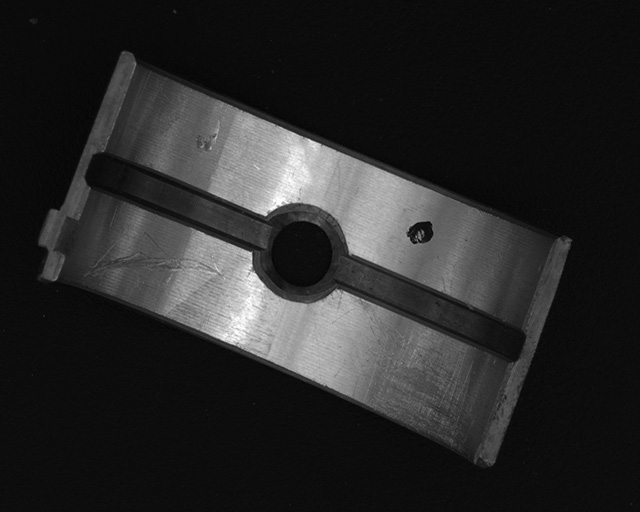blot: (405, 221, 435, 246)
bruise: (194, 117, 223, 153)
gap: (336, 255, 524, 364), (85, 153, 274, 249)
hole: (252, 205, 347, 305)
nick: (79, 229, 227, 282)
scratch: (353, 297, 475, 457)
